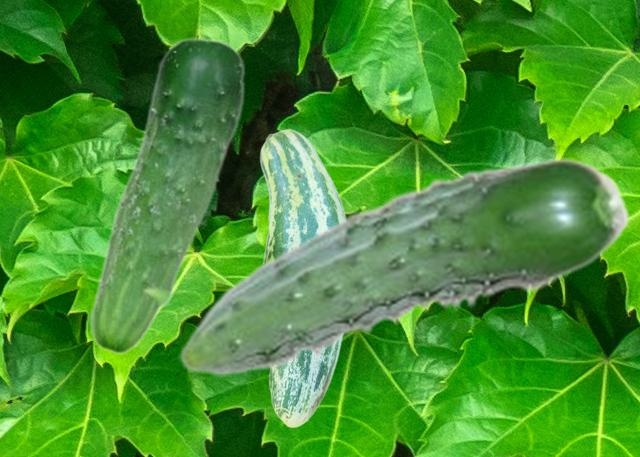cucumber: (178, 157, 630, 375), (87, 37, 245, 354), (259, 128, 345, 427)
